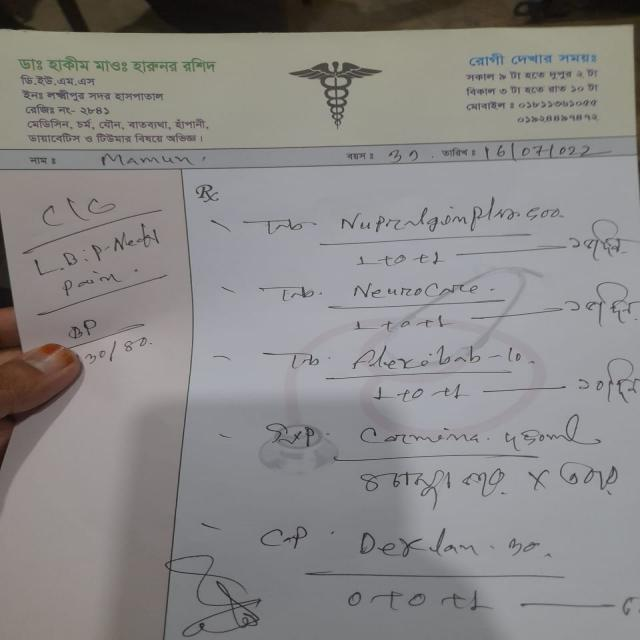Carmina: (347, 418, 488, 456)
Dexlan: (349, 526, 485, 562)
Flexibac: (336, 340, 490, 376)
Neurocare: (340, 277, 486, 306)
Nupralgin Plus: (317, 204, 532, 243)
